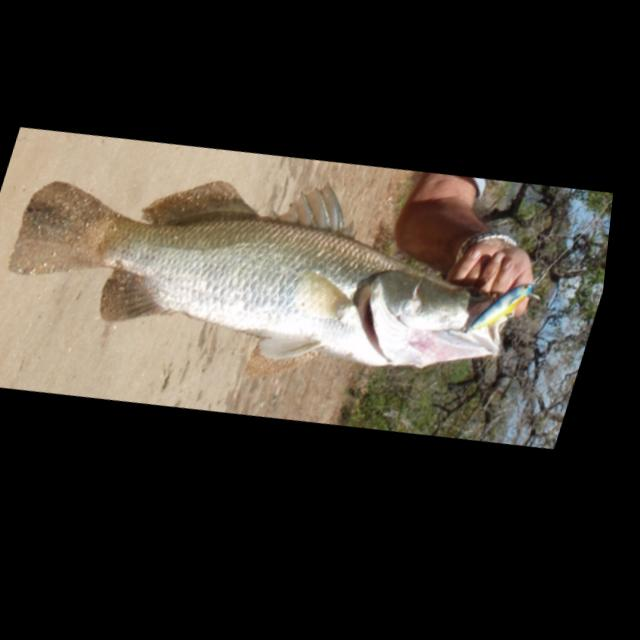Seabass: (0, 95, 558, 458)
